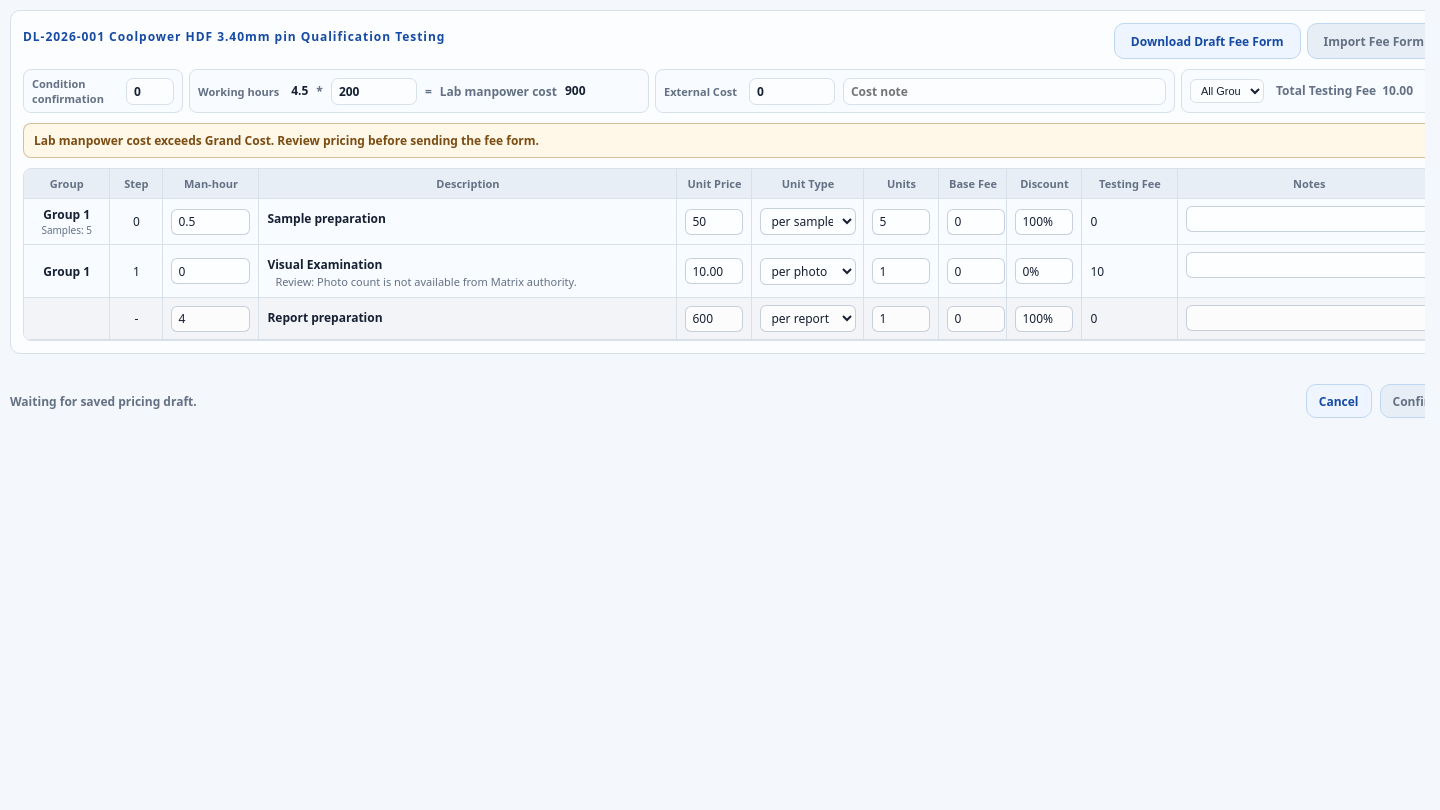
it: FeeEvaluationReviewExportPage › requires an explicit replacement choice for an existing official Fee Form
Click the button "Download Draft Fee Form": x=1207, y=41 [1114,23,1301,59]
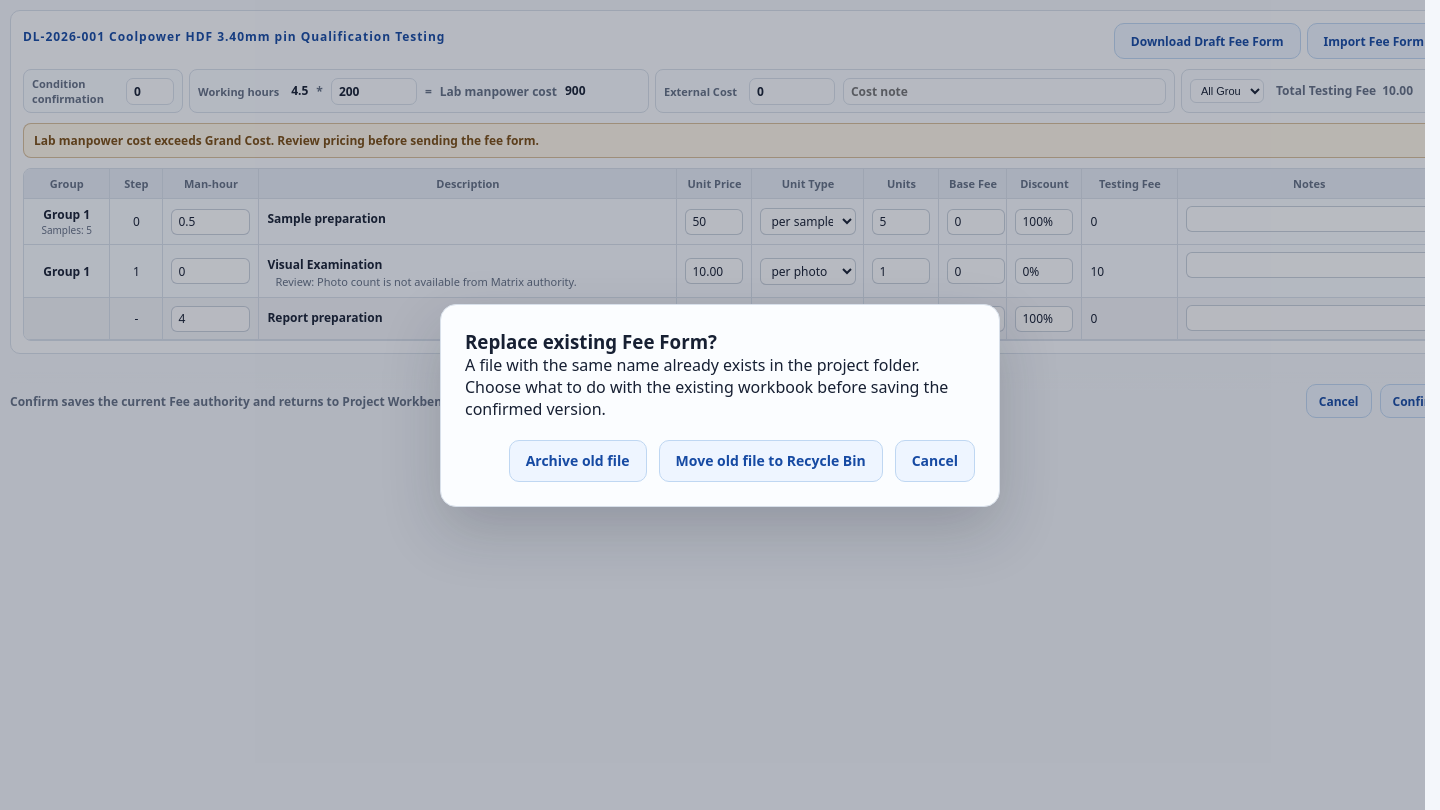
Now the dialog "Replace existing Fee Form?" is shown
Now the number of dialogs is 1
Click the button "Archive old file": x=578, y=460 [509,440,647,482]
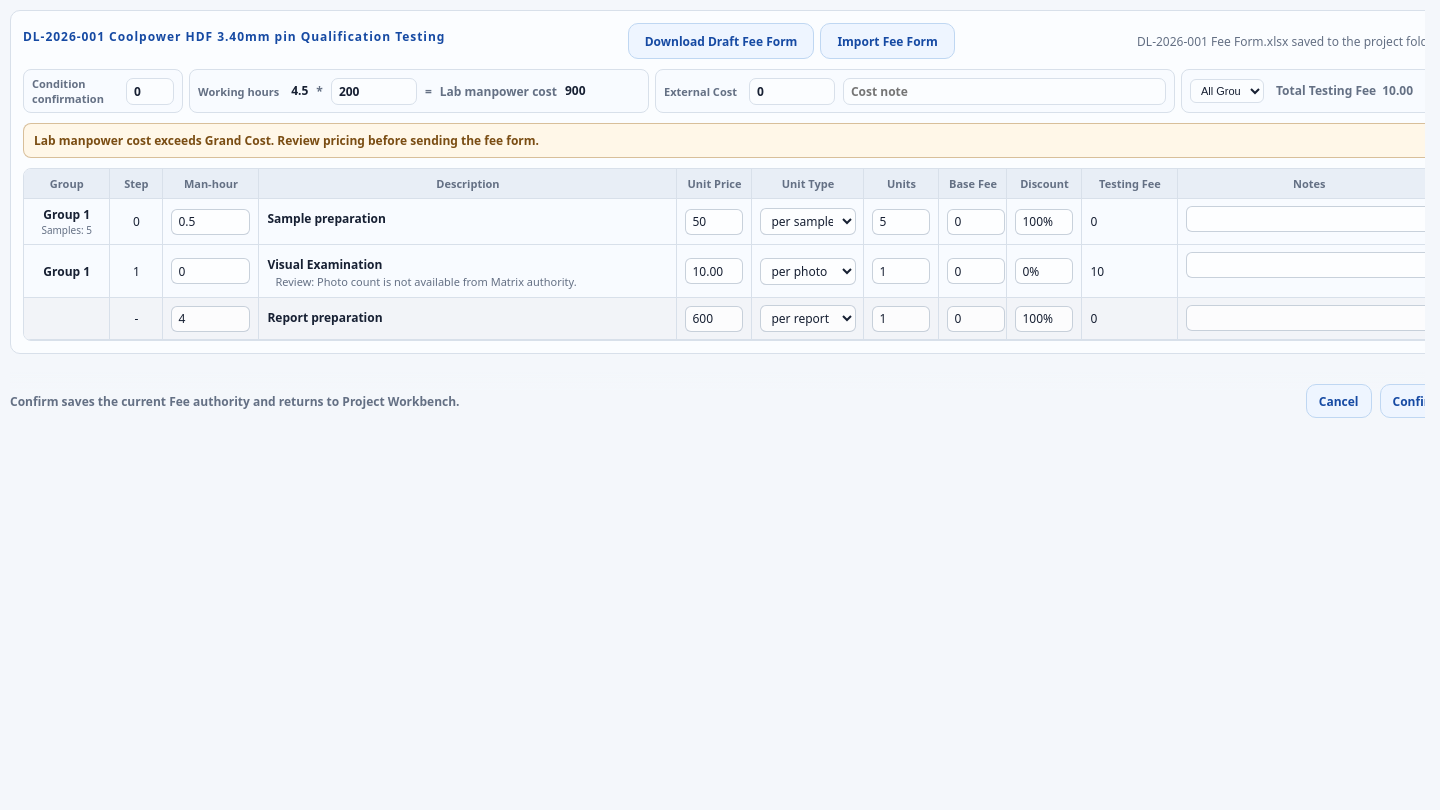
Now the text "DL-2026-001 Fee Form.xlsx saved to the project folder." is shown, box [1137,32,1439,50]
